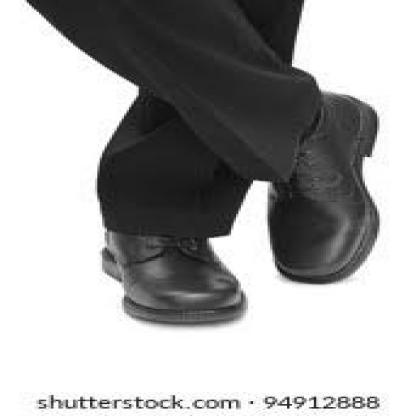ankle: (311, 122, 321, 128), (123, 234, 131, 238)
heel: (344, 98, 352, 102), (106, 267, 112, 270)
left_foot: (102, 226, 250, 326)
pinky: (232, 287, 238, 291), (276, 252, 280, 256)
right_foot: (269, 92, 379, 285)
toe: (335, 260, 346, 266), (142, 298, 151, 304)
